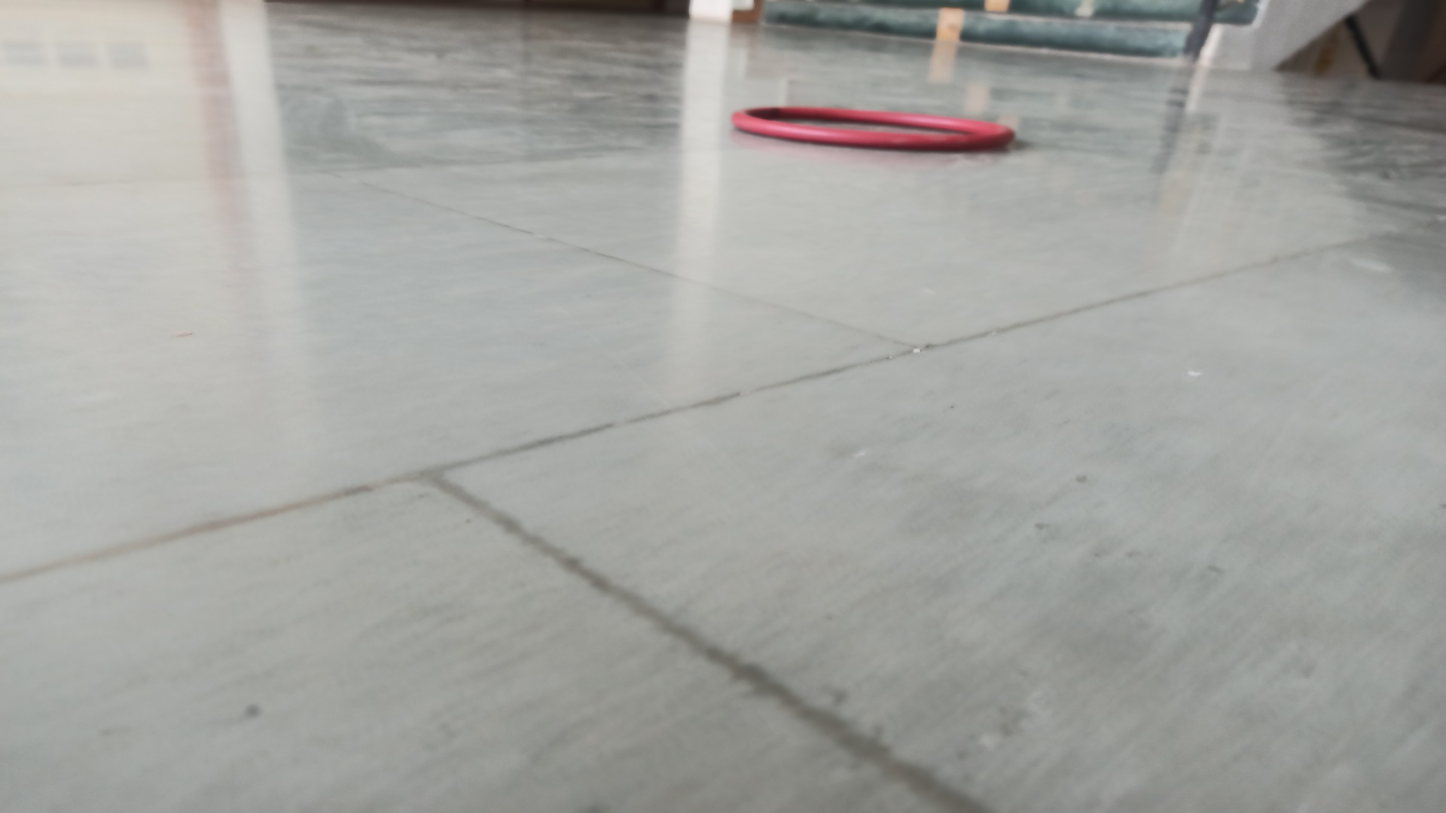Red ring: (735, 100, 1011, 154)
